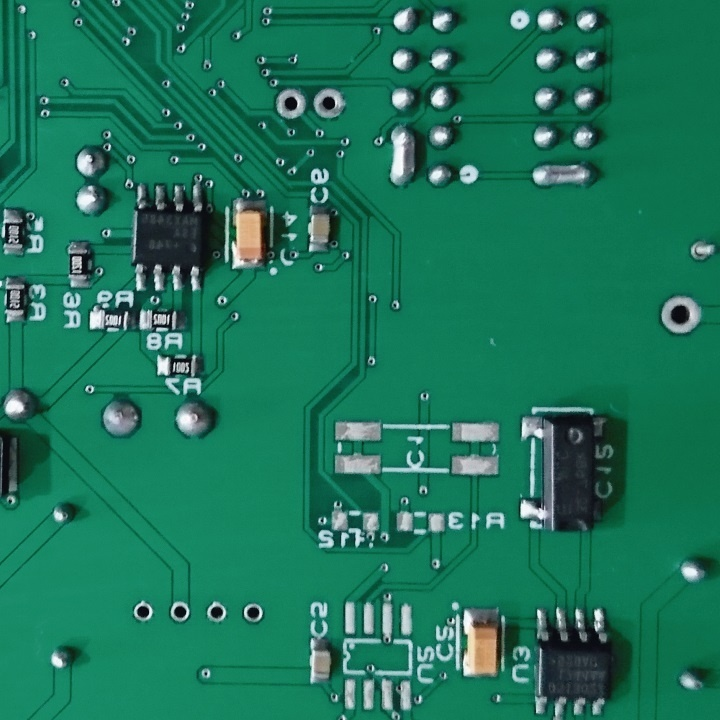F: (656, 288, 702, 340), (307, 83, 349, 125), (273, 84, 308, 121), (687, 236, 719, 262), (165, 598, 192, 626), (128, 598, 155, 625), (241, 600, 267, 627), (204, 599, 229, 626)
P: (529, 157, 601, 190), (387, 120, 420, 189)
